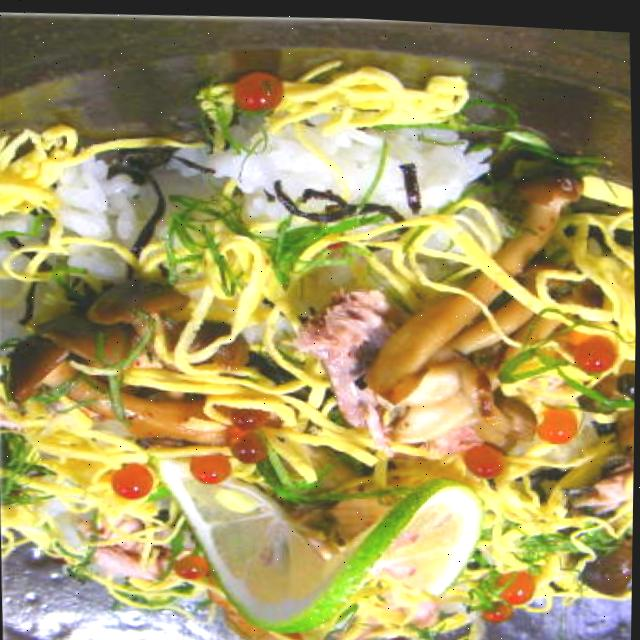寿司卷物: (5, 41, 637, 640)
